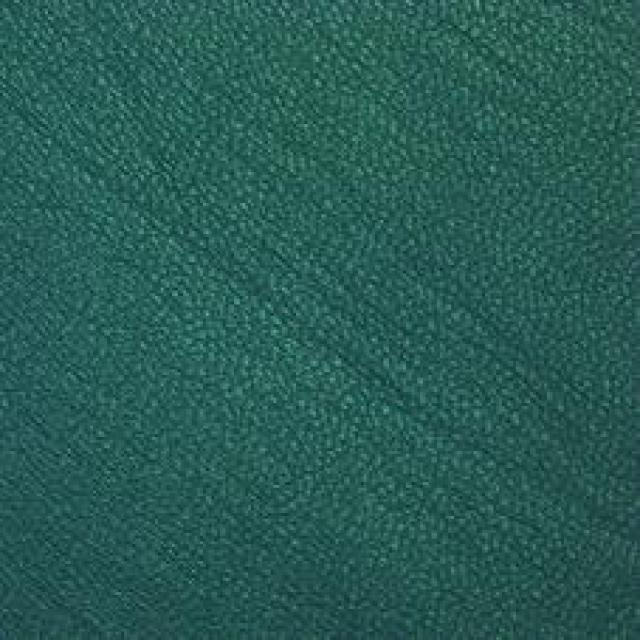Growth Marks: (145, 184, 530, 472)
